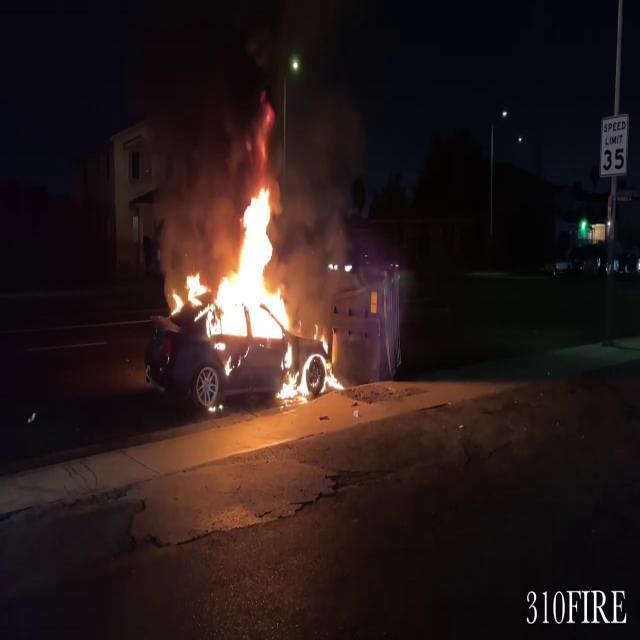Fire: (172, 174, 342, 404)
Smoke: (274, 79, 366, 324)
